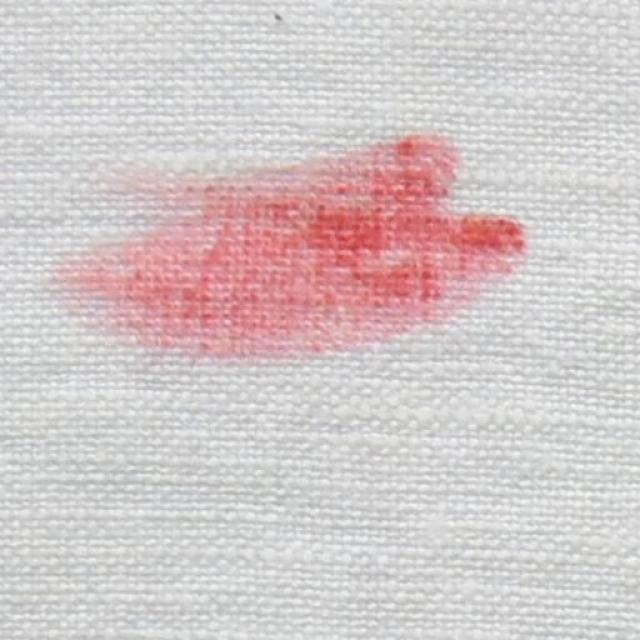Stain: (59, 134, 526, 359)
